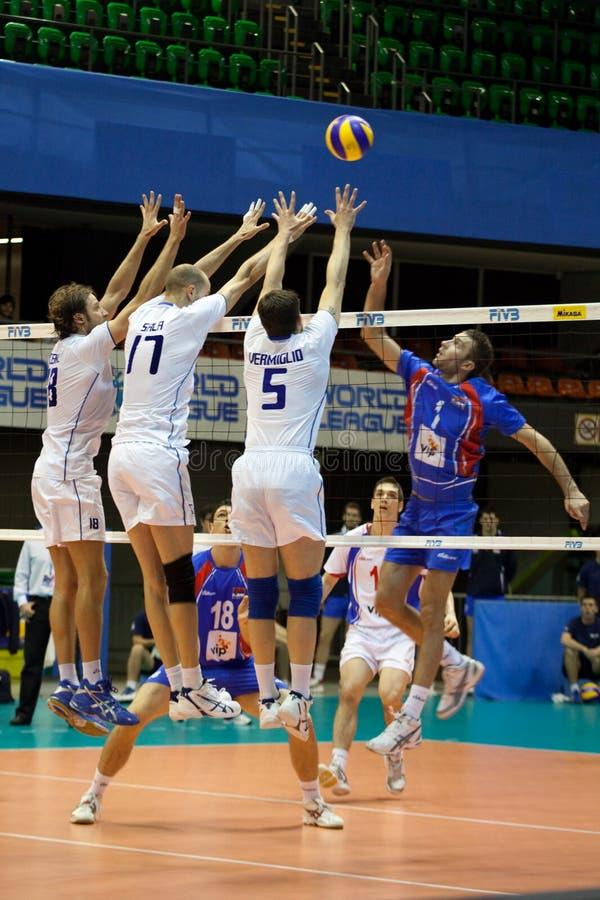ballon_volley: (324, 113, 375, 162)
